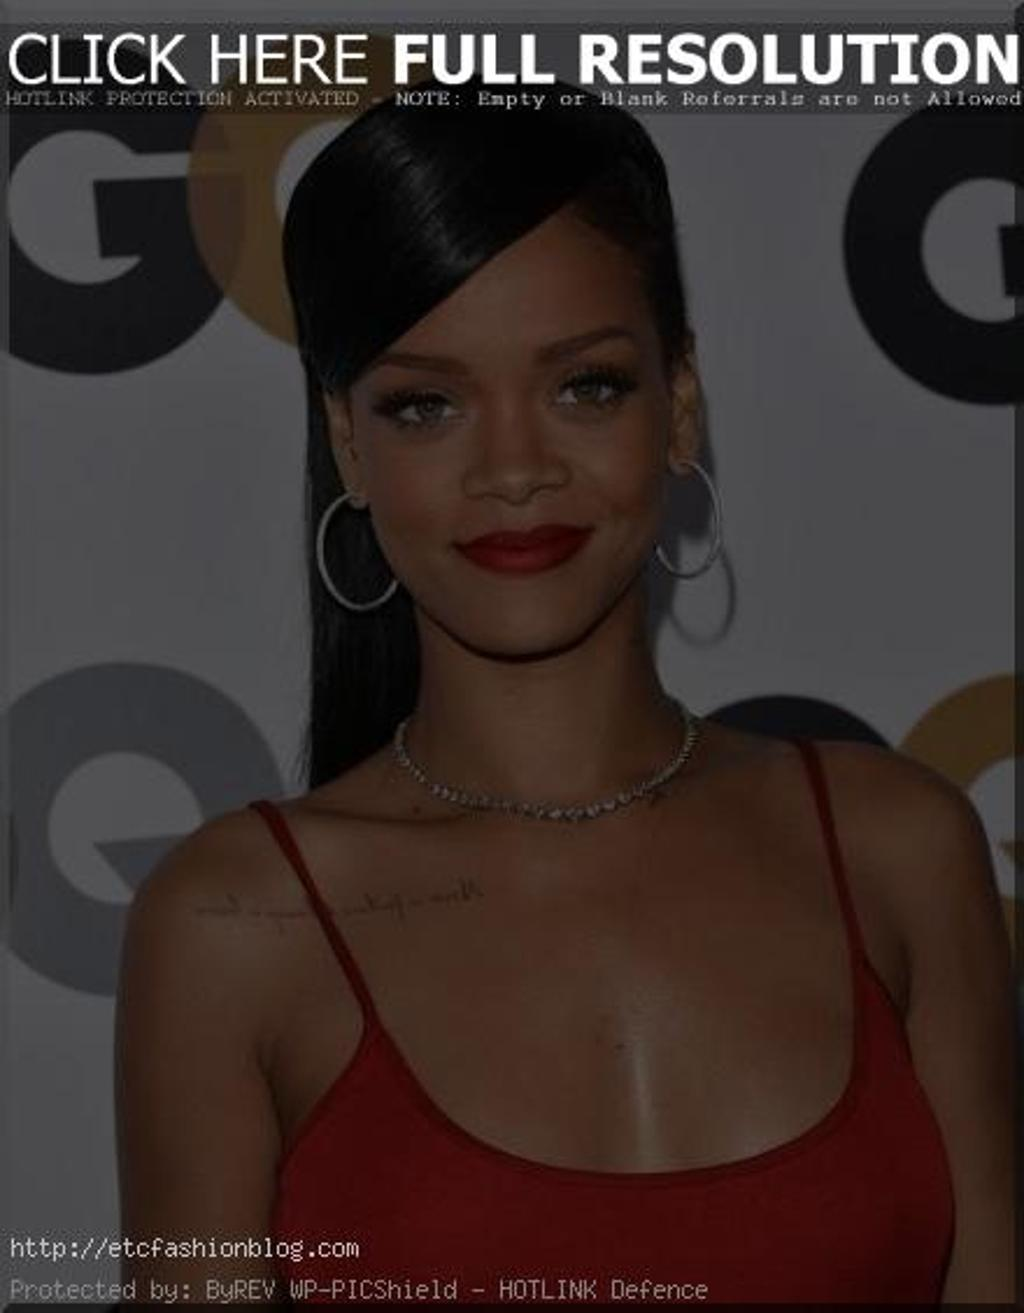face: (349, 198, 672, 652)
